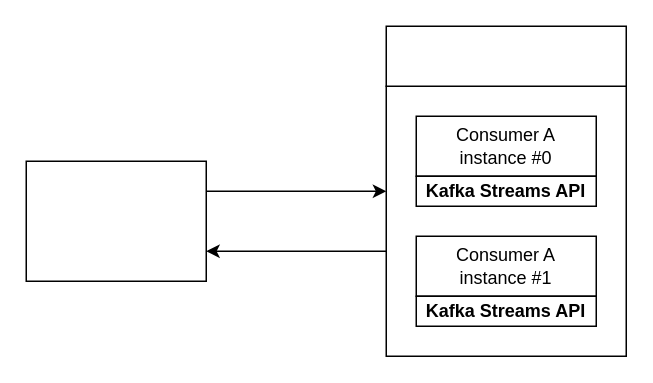
Some shapes in this 653 by 383 pixel diagram are drawn without their labels. The centre of each missing label's shape, as x and y in pixels:
"Consumer Group" goes at point (505, 55).
"Kafka Cluster" goes at point (115, 220).
